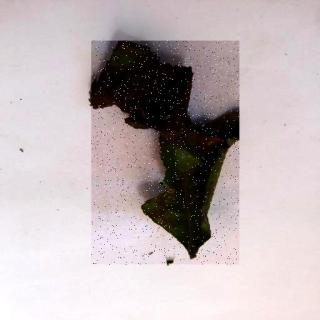Algal Leaf: (93, 42, 241, 267)
